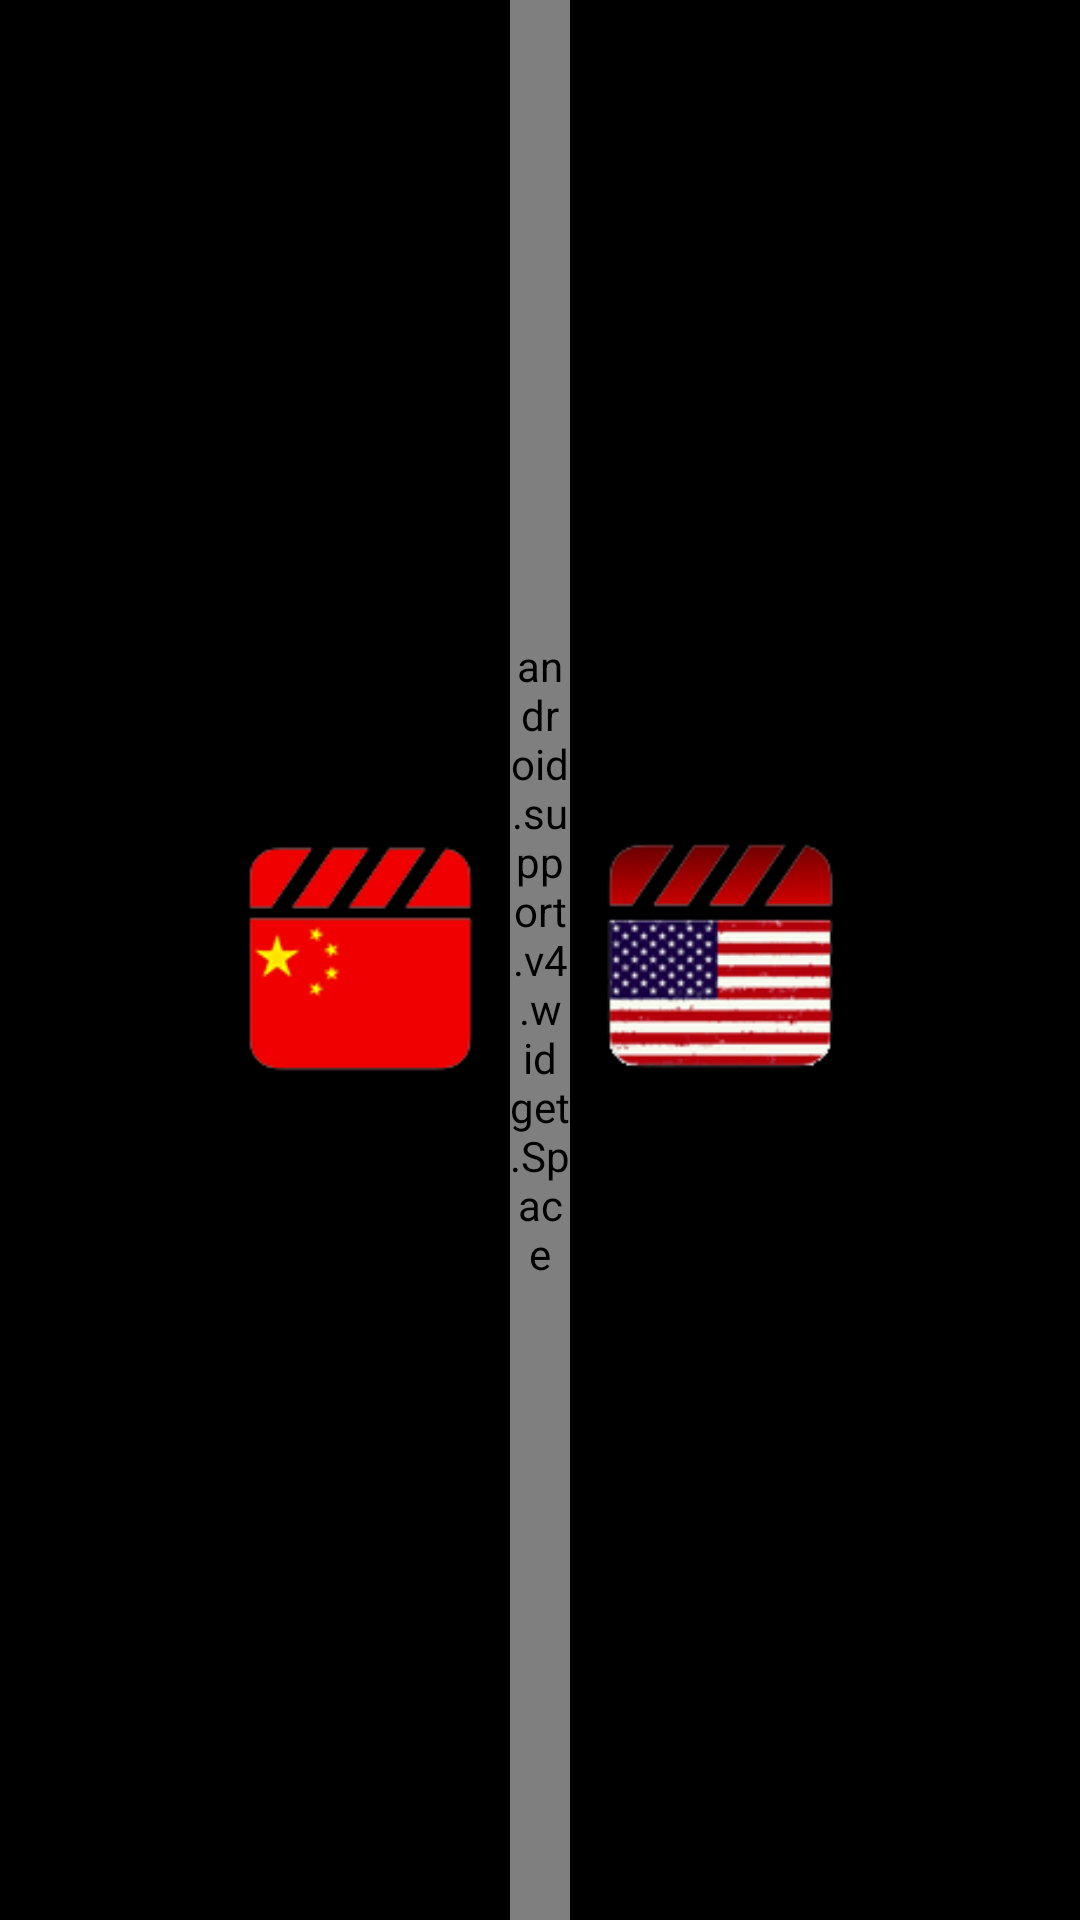

Screen size 1080px x 1920px. Icon name, then its box in pixels as (x1, y1, x2, y2):
china tv: (249, 847, 472, 1070)
usa tv: (609, 844, 833, 1067)
